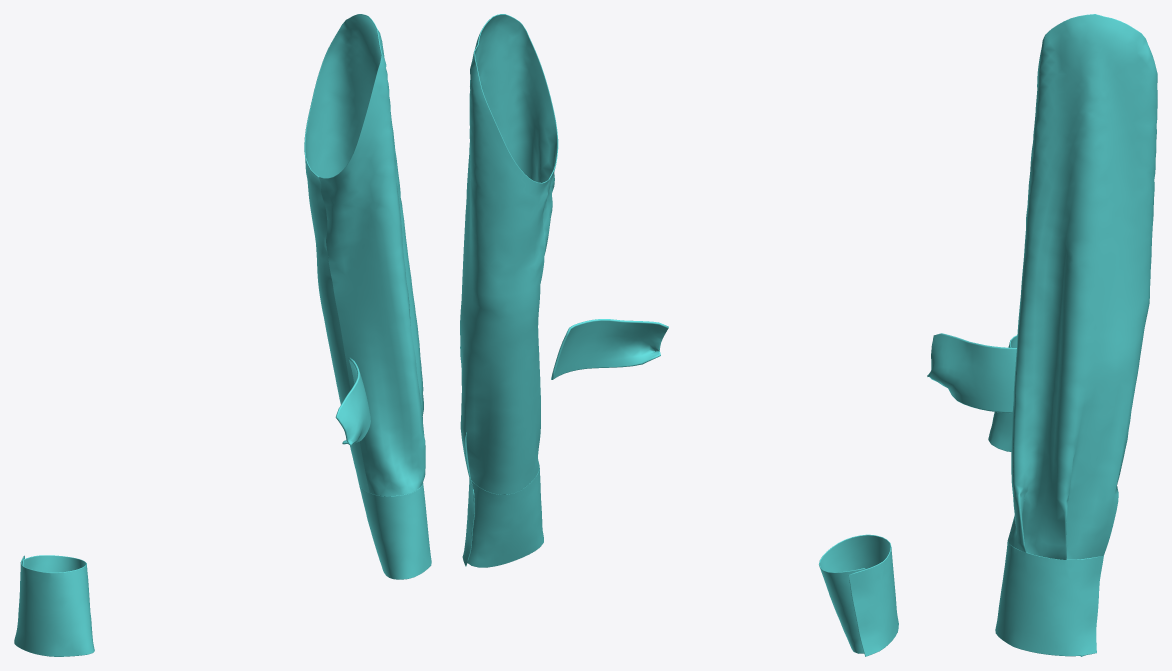
The picture shows the model from 3 angles, left to right: view 1: azimuth 30°, elevation 25°; view 2: azimuth 150°, elevation 25°; view 3: azimuth 270°, elevation 25°; orthographic projection. The views are drawn at different scales.
Parts seen in each view (by area): view 1: Object_7; view 2: Object_7; view 3: Object_7.
Part boxes in pixels (left/top/right/bottom): Object_7: left=14, top=14, right=431, bottom=656; Object_7: left=460, top=14, right=898, bottom=656; Object_7: left=927, top=14, right=1157, bottom=656.
Bounding box in the file's own units: 0.4814 × 0.6087 × 0.203.
